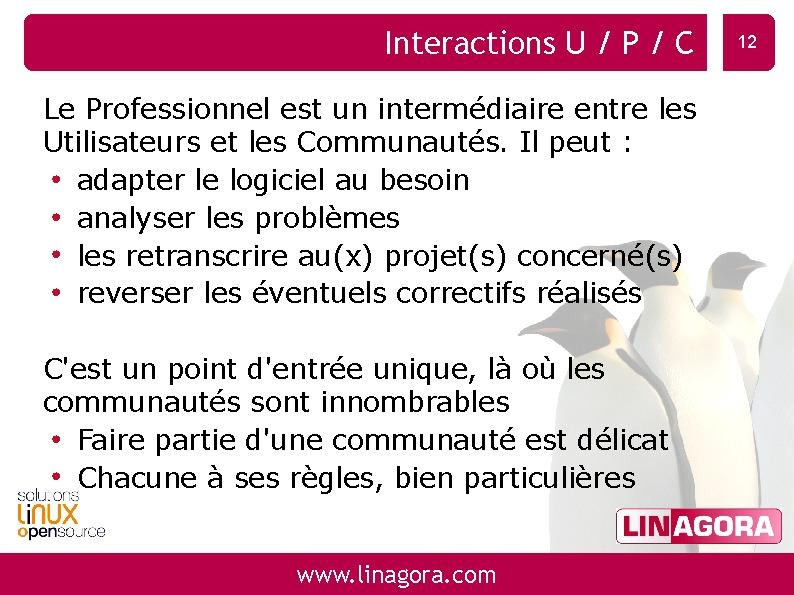paragraph: (36, 88, 746, 494)
title: (377, 22, 701, 65)
